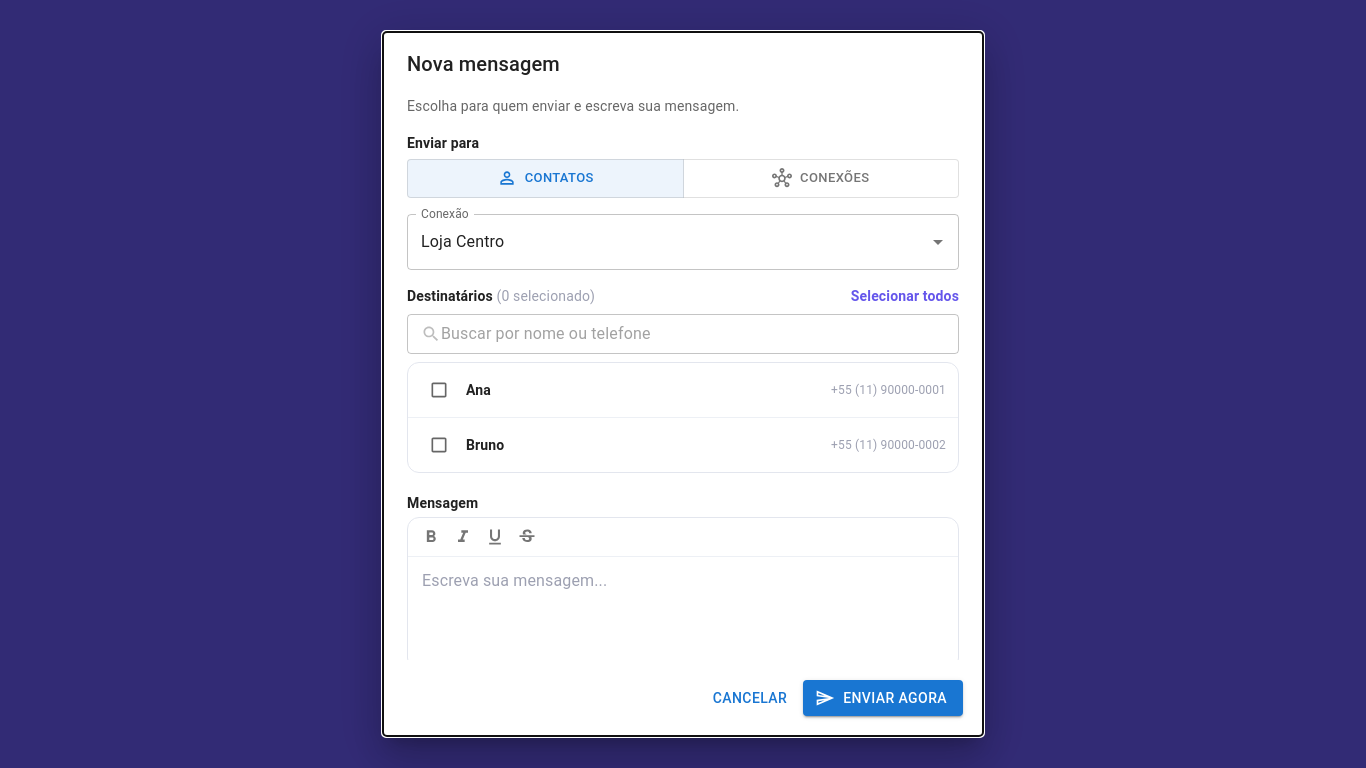
Test case: MessageDialog — new message › sends to the chosen contacts of the chosen connection
Click the checkbox labelled "Bruno +55 (11) 90000-0002" at coordinates (485, 445), box [429,435,946,455]
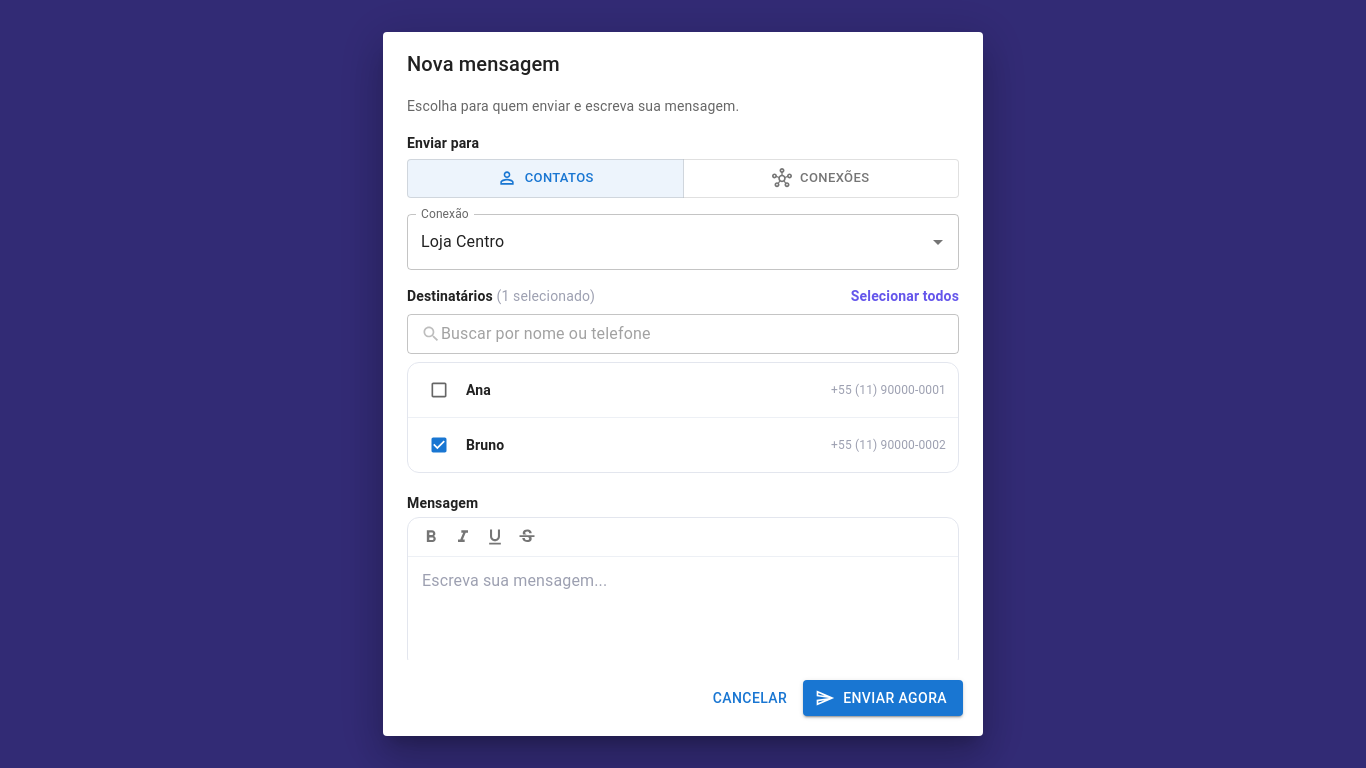
Click the field named "Mensagem" at coordinates (683, 613), box [408,557,958,669]
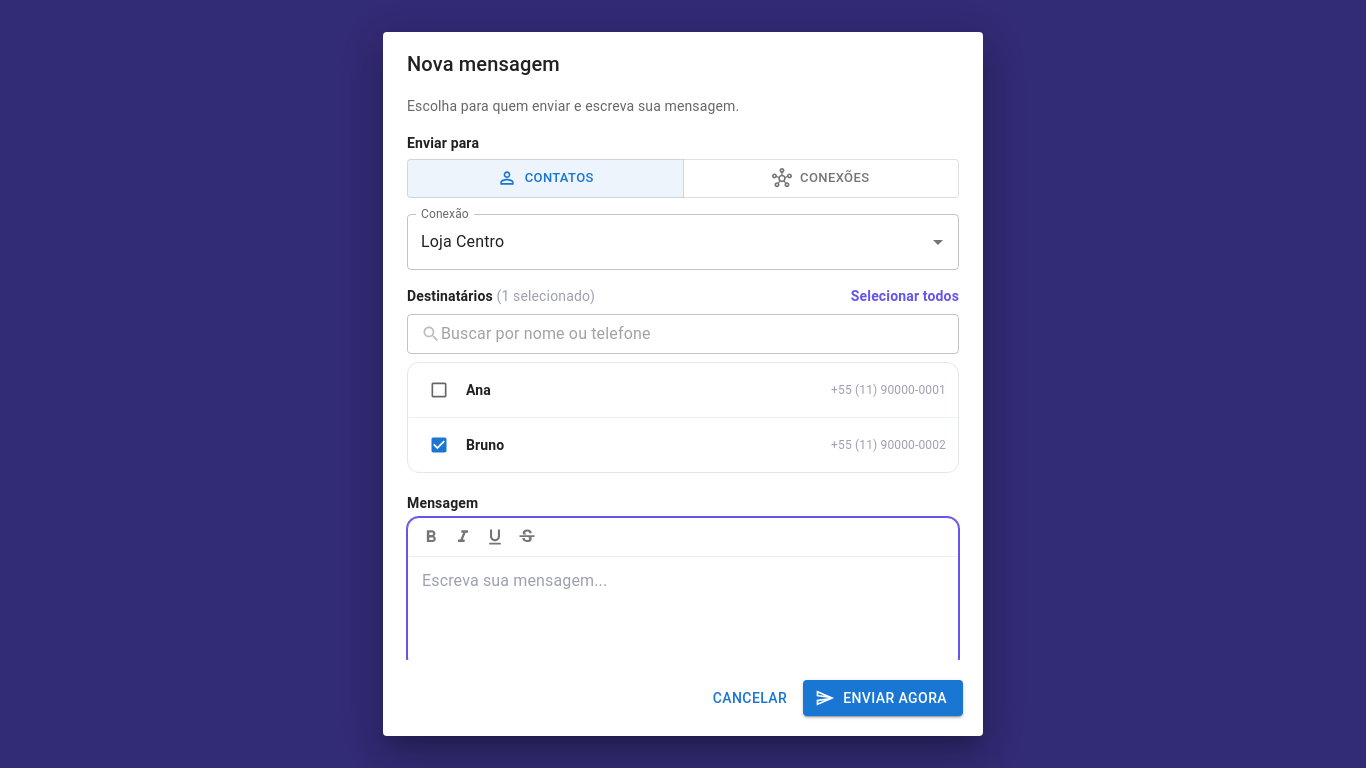
Type keys "Olá, tudo bem?"
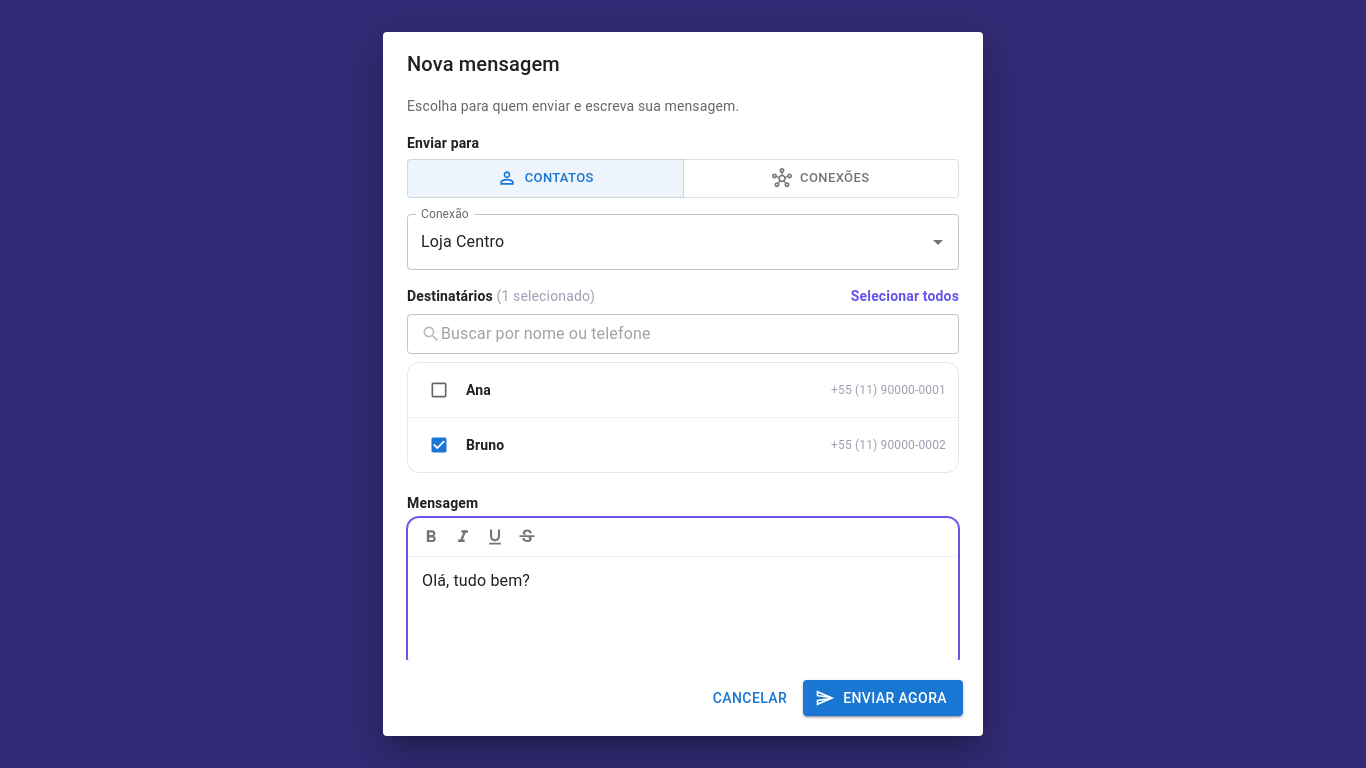
Click the button "Enviar agora" at coordinates (883, 698), box [803,680,963,716]
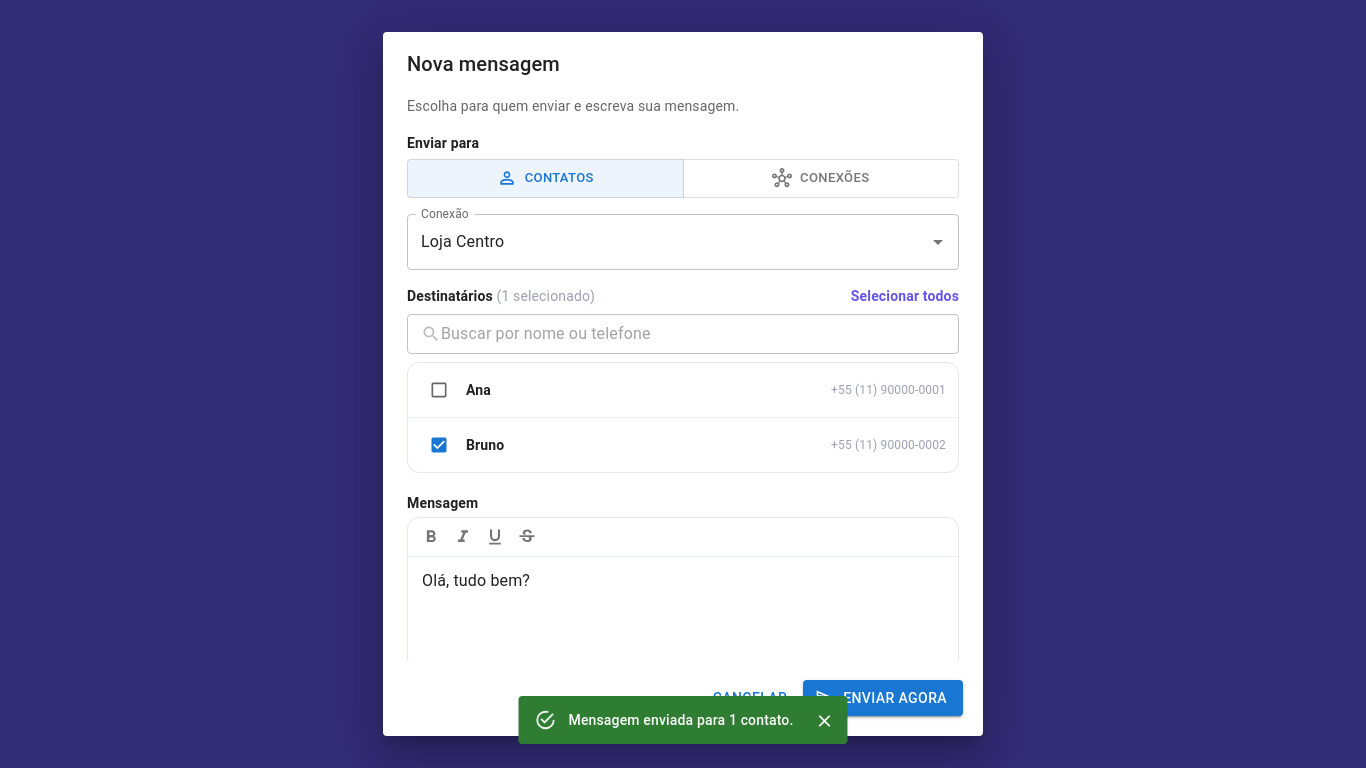
Check: the text "Mensagem enviada para 1 contato." is shown, box [568,712,794,728]
